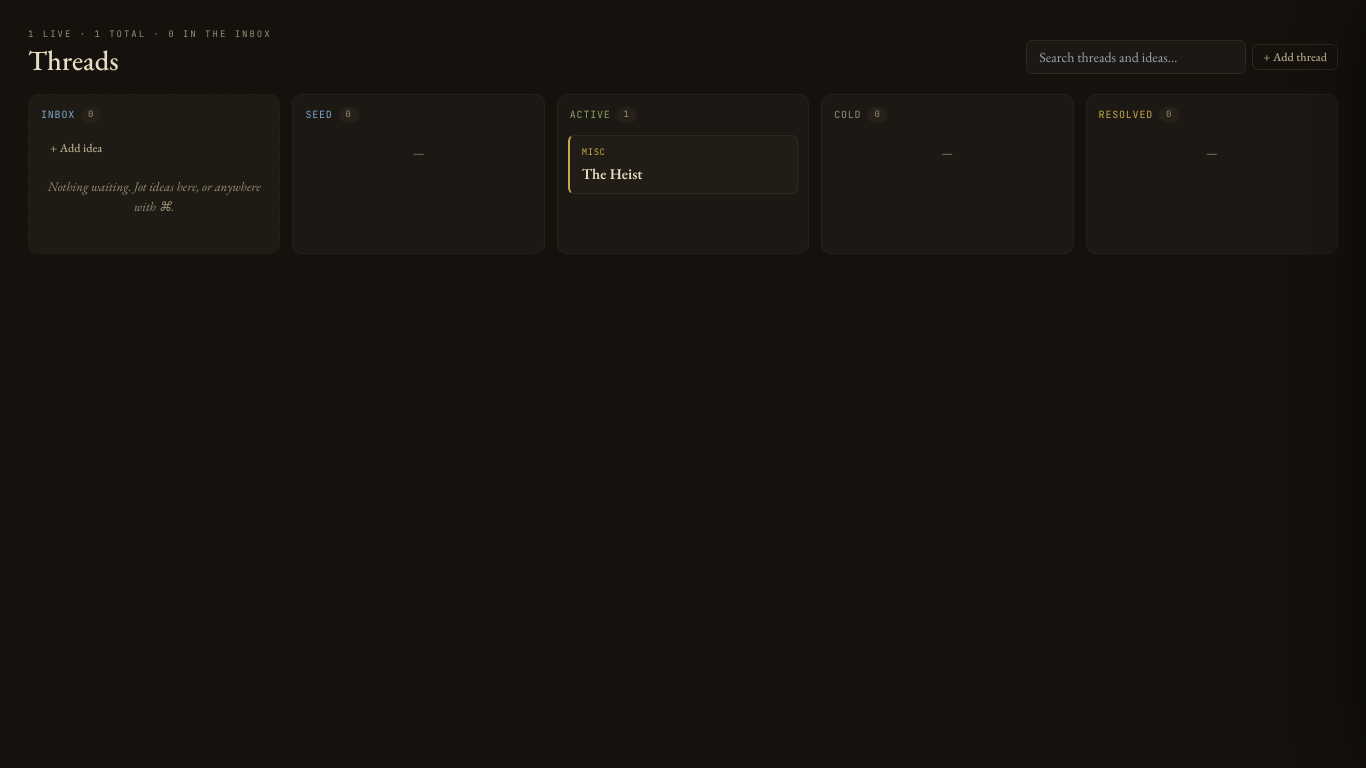
Test: Threads › promote to module structure › opens the promote dialog from a thread’s page
This screenshot has width=1366, height=768.
Step 1. Click the button "Misc The Heist" → (683, 165), box [568,135,798,194]
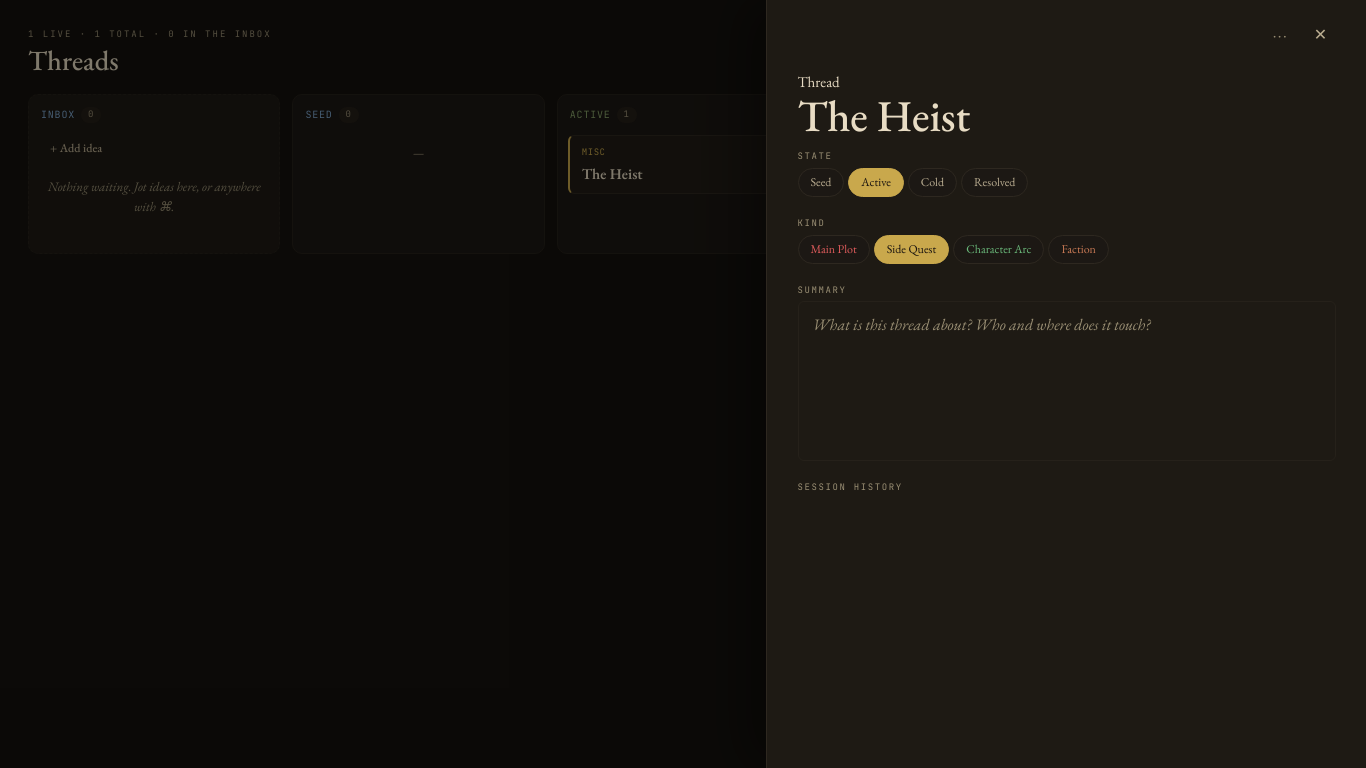
Step 2. Click the button named "More actions" → (1281, 35), box [1264,24,1298,46]
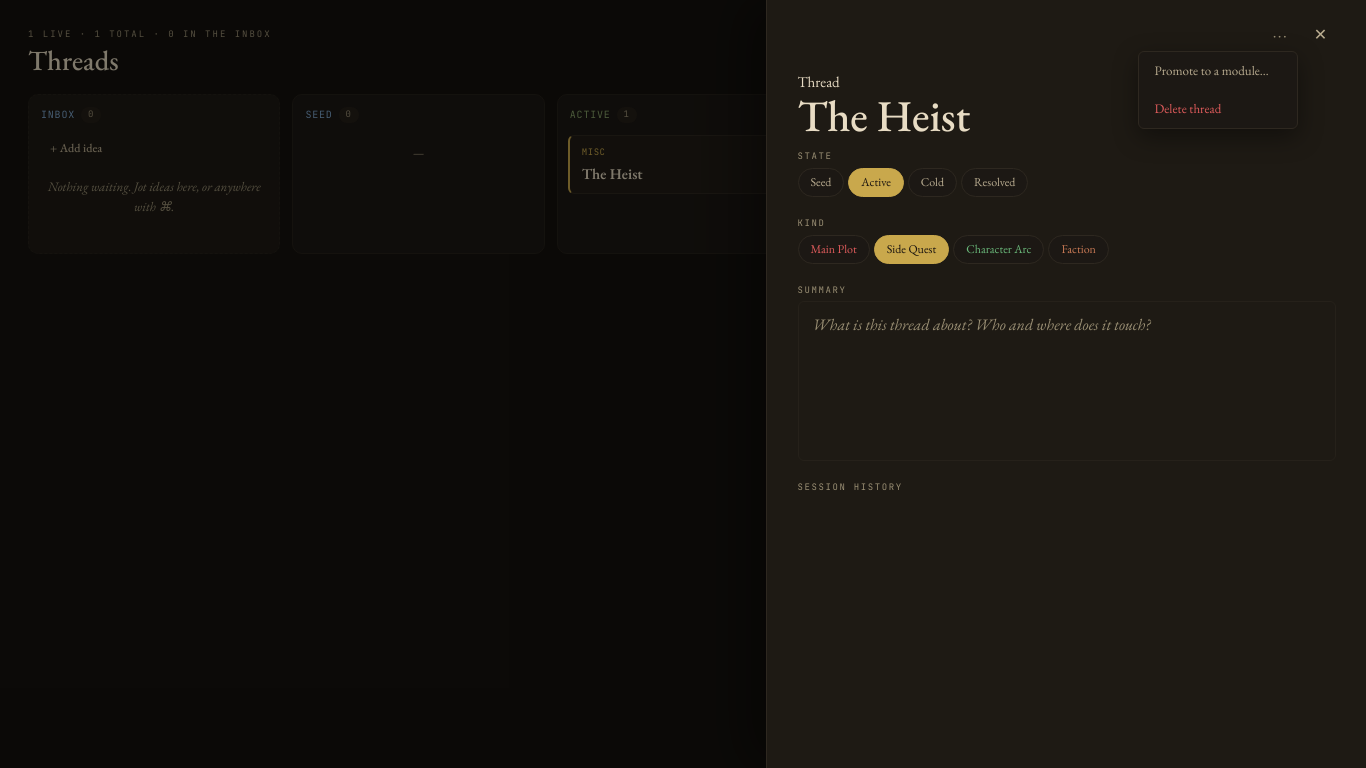
Step 3. Click the menu item "Promote to a module…" → (1218, 71), box [1138,52,1296,90]
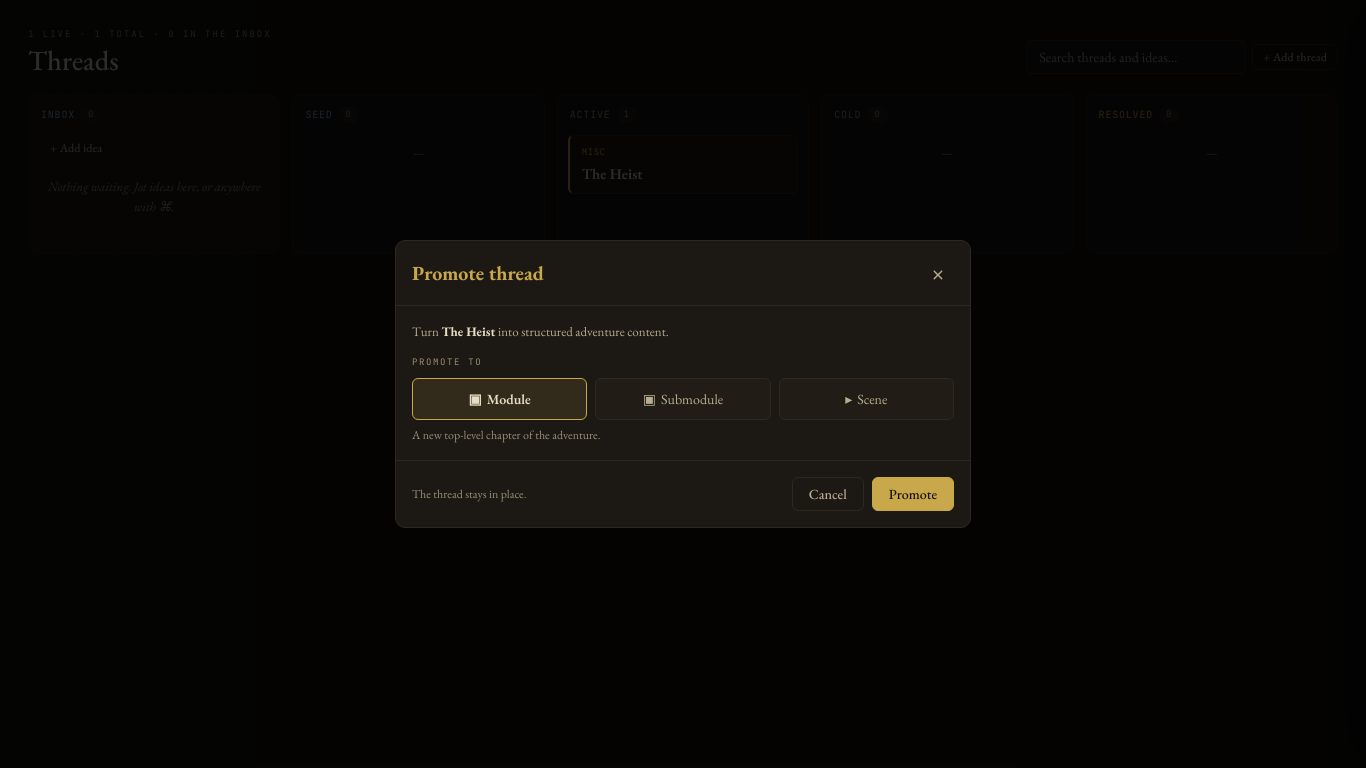
Now the heading "Promote thread" is shown, box [412,259,544,287]
